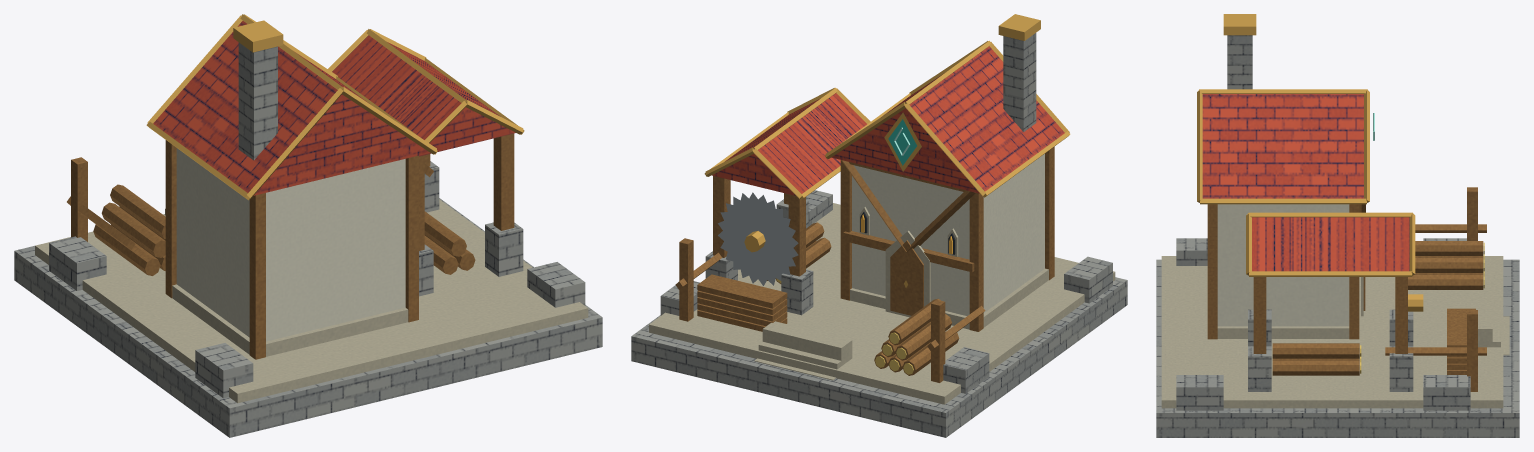
The model's file is Sawmill_1.fbx.
3 views of the same model, side by side, from view 1: azimuth 30°, elevation 25°; view 2: azimuth 150°, elevation 25°; view 3: azimuth 270°, elevation 25° (orthographic). The views are drawn at different scales.
Parts seen in each view (by area): view 1: Sawmill_1; view 2: Sawmill_1; view 3: Sawmill_1.
Part boxes in pixels (box(x1,y1,x2,y2)): Sawmill_1: box(14, 14, 602, 437); Sawmill_1: box(631, 14, 1127, 437); Sawmill_1: box(1156, 14, 1519, 437).
Size of the model in its own units: 1 by 0.9 by 1.
1 material, 1 textured.
